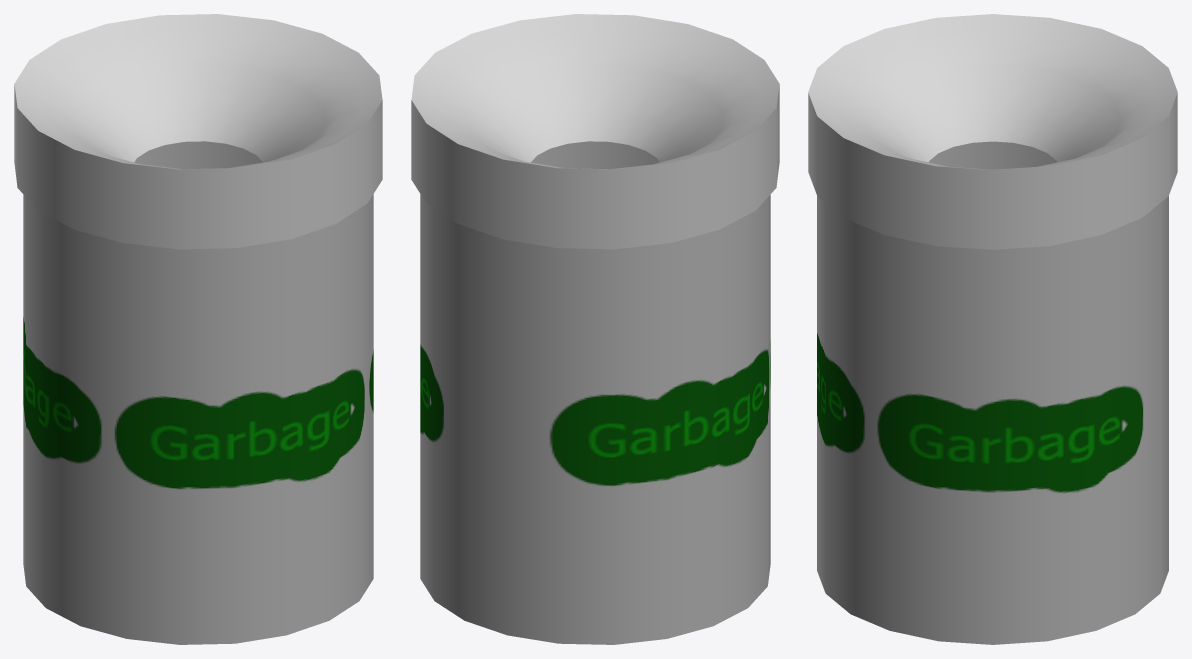
File: prullenbakbinnen.fbx
3 views of the same model, side by side, from view 1: azimuth 30°, elevation 25°; view 2: azimuth 150°, elevation 25°; view 3: azimuth 270°, elevation 25° (orthographic).
Parts seen in each view (by area): view 1: pCylinder1, pCylinder2; view 2: pCylinder1, pCylinder2; view 3: pCylinder1, pCylinder2.
Boxes of the visible parts, box(x1,y1,x2,y2) form: pCylinder1: box(23, 141, 373, 644); pCylinder2: box(14, 14, 382, 249); pCylinder1: box(420, 141, 770, 644); pCylinder2: box(411, 14, 779, 249); pCylinder1: box(817, 141, 1168, 644); pCylinder2: box(808, 14, 1177, 249).
Size of the model in its own units: 4.2 by 6 by 4.2.
2 materials, 1 textured.
